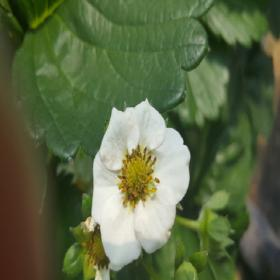Blossom Blight: (116, 142, 162, 210)
